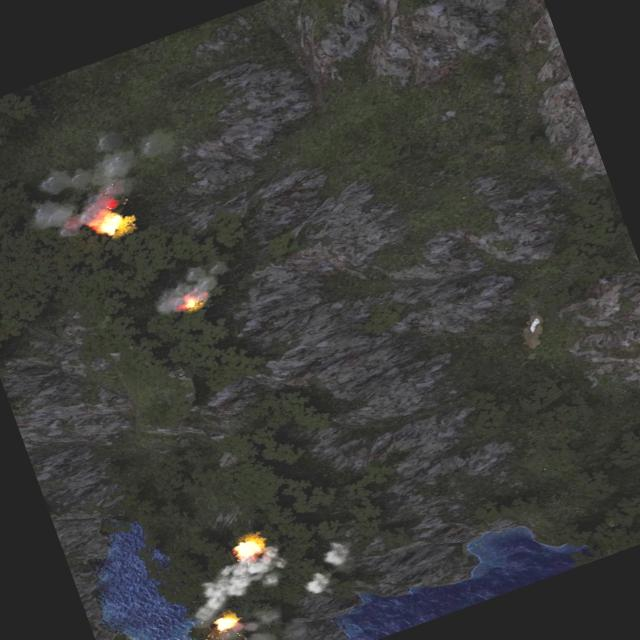fire: (89, 207, 134, 242), (230, 532, 267, 561), (212, 610, 240, 632), (178, 291, 205, 312)
smoke: (13, 109, 195, 241), (175, 545, 296, 630), (144, 251, 236, 317), (292, 536, 362, 598), (239, 599, 315, 640)
